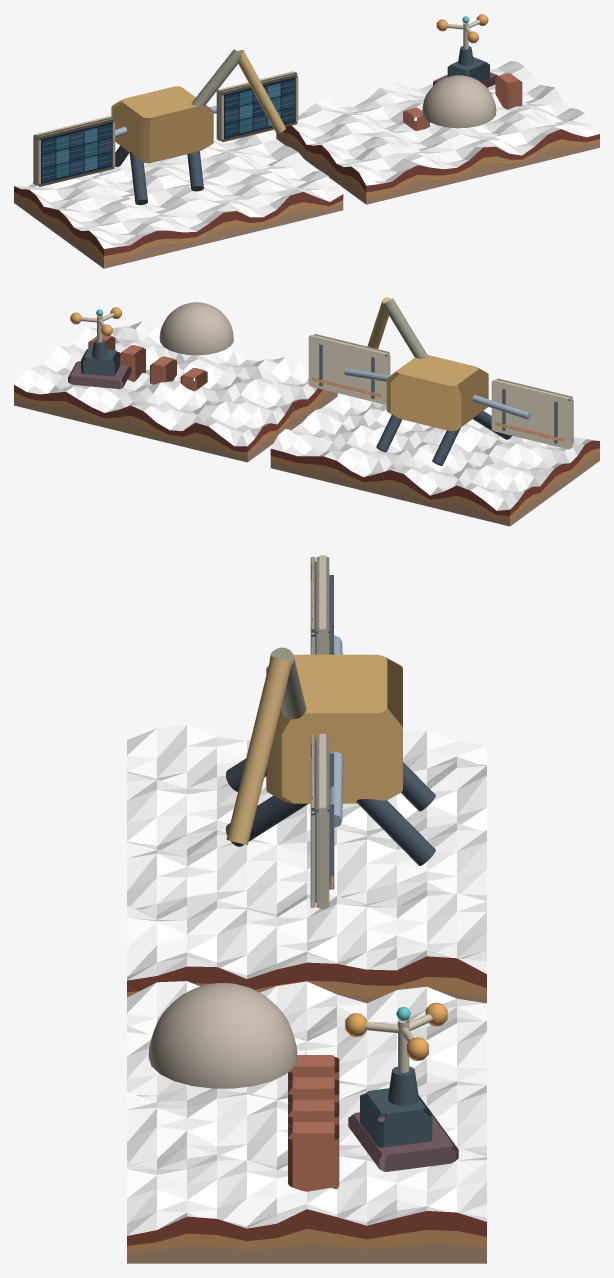
File: insight-marte.obj
The picture shows the model from 3 angles, top to bottom: view 1: azimuth 30°, elevation 25°; view 2: azimuth 150°, elevation 25°; view 3: azimuth 270°, elevation 25°; orthographic projection. The views are drawn at different scales.
Parts seen in each view (by area): view 1: insight-marte; view 2: insight-marte; view 3: insight-marte.
Boxes of the visible parts, x1,y1,x2,y2 form: insight-marte: [14, 14, 599, 268]; insight-marte: [14, 297, 599, 526]; insight-marte: [127, 555, 486, 1263].
Size of the model in its own units: 1.79 by 0.4927 by 0.54.
